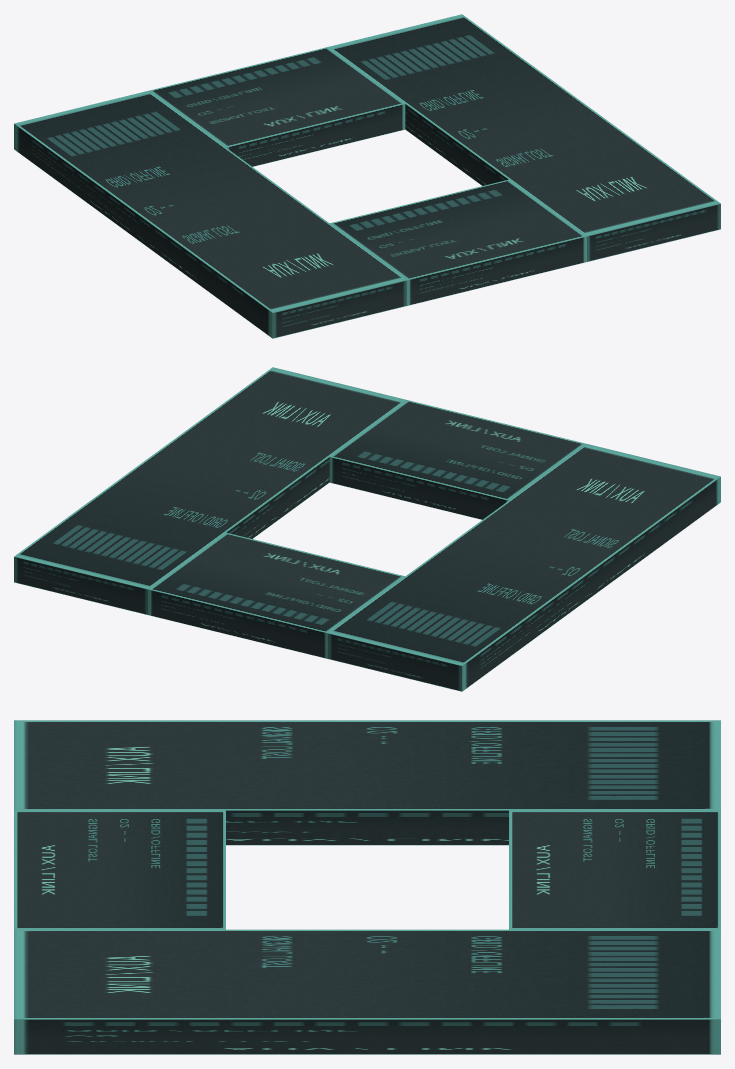
The model's file is roof_skylight_4m_LOD3.obj.
The picture shows the model from 3 angles, top to bottom: view 1: azimuth 30°, elevation 25°; view 2: azimuth 150°, elevation 25°; view 3: azimuth 270°, elevation 25°; orthographic projection. The views are drawn at different scales.
Parts seen in each view (by area): view 1: L02_roof_skylight_4m_LOD3; view 2: L02_roof_skylight_4m_LOD3; view 3: L02_roof_skylight_4m_LOD3.
Boxes of the visible parts, box(x1,y1,x2,y2) form: L02_roof_skylight_4m_LOD3: box(14, 14, 720, 338); L02_roof_skylight_4m_LOD3: box(14, 367, 720, 691); L02_roof_skylight_4m_LOD3: box(14, 720, 720, 1054).
Bounding box in the file's own units: 4 × 0.22 × 4.
1 material, 1 textured.
